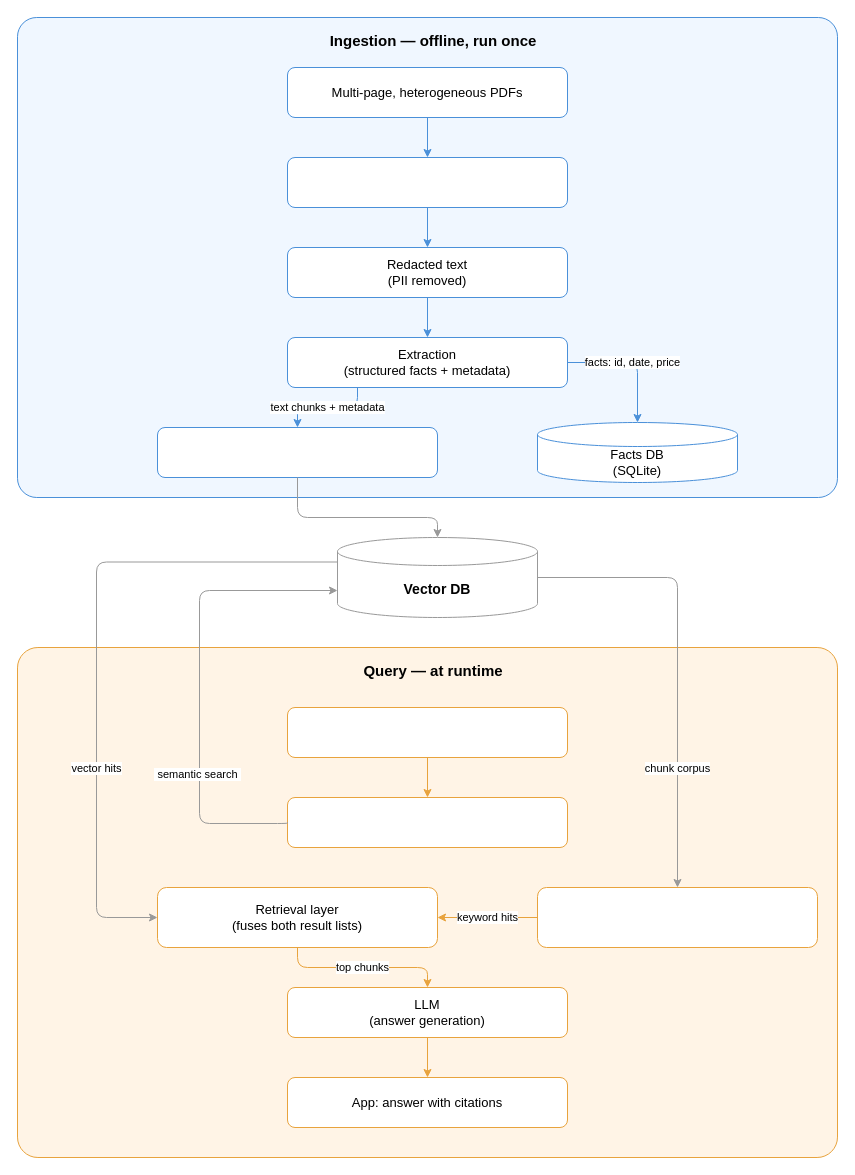
The diagram is 855 pixels wide and 1175 high, and some of its shapes have lost their labels. Here are the shapes that lost their labels. From the top down, the centre of each, then its label:
(x=427, y=182): Normalized raw text
(x=297, y=452): Chunking + embedding
(x=427, y=732): Natural-language question
(x=427, y=822): Embedding model
(x=677, y=917): Keyword index (BM25) built at runtime from the vector DB
